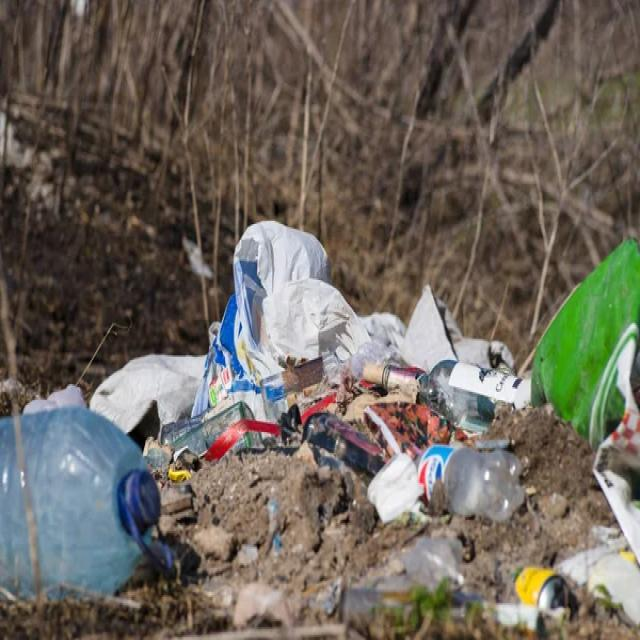garbage: (85, 155, 590, 590)
